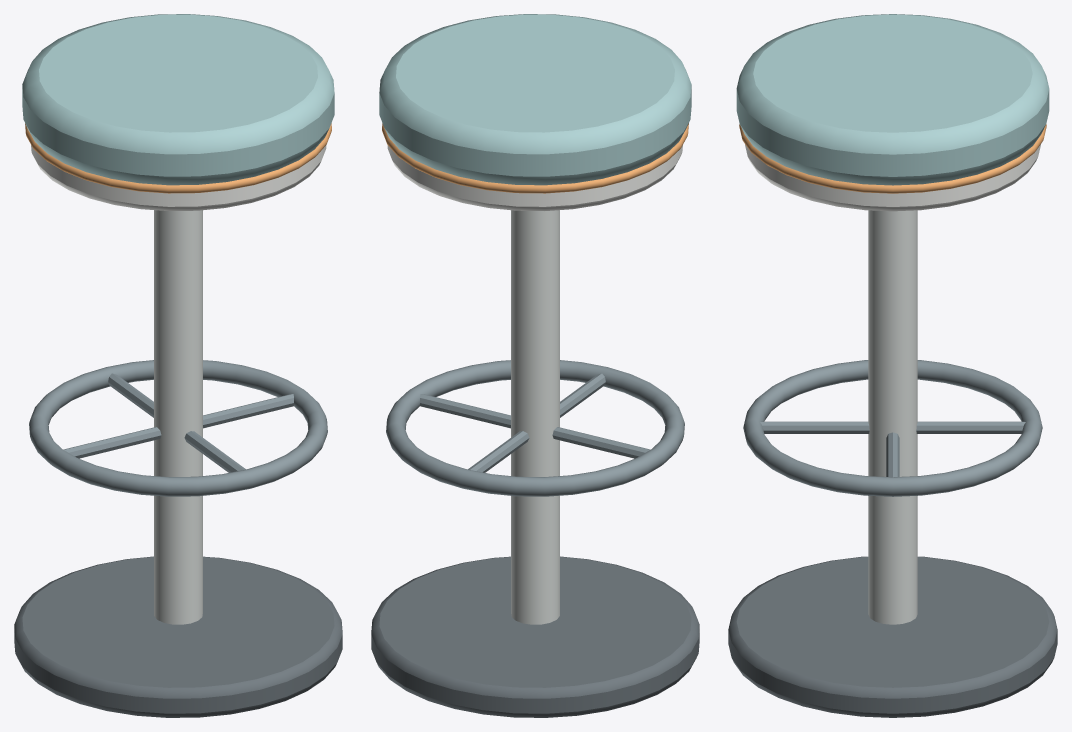
Rendered from bar_stool.glb.
The picture shows the model from 3 angles, left to right: view 1: azimuth 30°, elevation 25°; view 2: azimuth 150°, elevation 25°; view 3: azimuth 270°, elevation 25°; orthographic projection.
Visible parts, largest first — view 1: seat_teal_soft, base_graphite, pedestal_satin_steel, foot_ring_dark_alloy, seat_shell_white_painted, spokes_dark_alloy, seat_band_orange; view 2: seat_teal_soft, base_graphite, pedestal_satin_steel, foot_ring_dark_alloy, seat_shell_white_painted, spokes_dark_alloy, seat_band_orange; view 3: seat_teal_soft, base_graphite, pedestal_satin_steel, foot_ring_dark_alloy, seat_shell_white_painted, spokes_dark_alloy, seat_band_orange.
Part boxes in pixels (<box>): seat_teal_soft: <box>22,14,334,185</box>; base_graphite: <box>14,556,342,717</box>; pedestal_satin_steel: <box>154,210,202,624</box>; foot_ring_dark_alloy: <box>29,360,327,496</box>; seat_shell_white_painted: <box>31,145,326,210</box>; spokes_dark_alloy: <box>63,373,293,472</box>; seat_band_orange: <box>25,123,331,193</box>; seat_teal_soft: <box>379,14,691,185</box>; base_graphite: <box>371,556,699,717</box>; pedestal_satin_steel: <box>511,210,559,624</box>; foot_ring_dark_alloy: <box>386,360,684,496</box>; seat_shell_white_painted: <box>387,145,682,210</box>; spokes_dark_alloy: <box>420,373,650,472</box>; seat_band_orange: <box>382,123,688,193</box>; seat_teal_soft: <box>736,14,1049,185</box>; base_graphite: <box>728,556,1057,717</box>; pedestal_satin_steel: <box>868,210,917,624</box>; foot_ring_dark_alloy: <box>743,360,1042,496</box>; seat_shell_white_painted: <box>745,144,1040,211</box>; spokes_dark_alloy: <box>760,421,1025,477</box>; seat_band_orange: <box>739,124,1046,193</box>.
Size of the model in its own units: 0.4 by 0.775 by 0.4.
